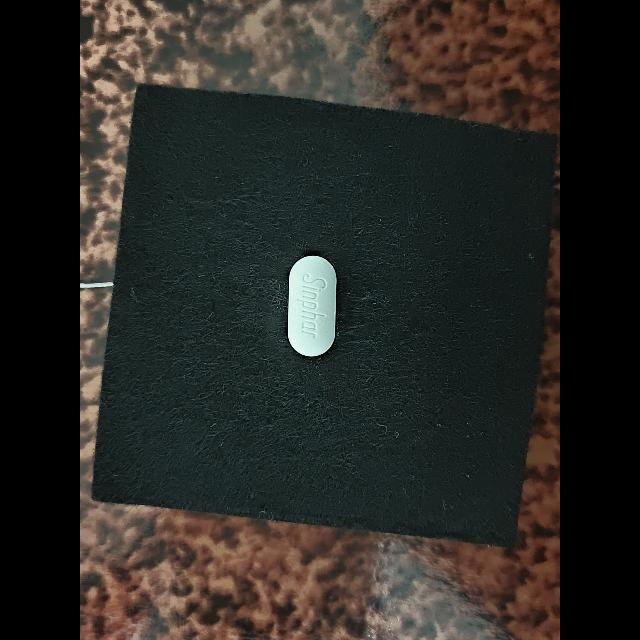Intact Pill: (288, 255, 337, 356)
